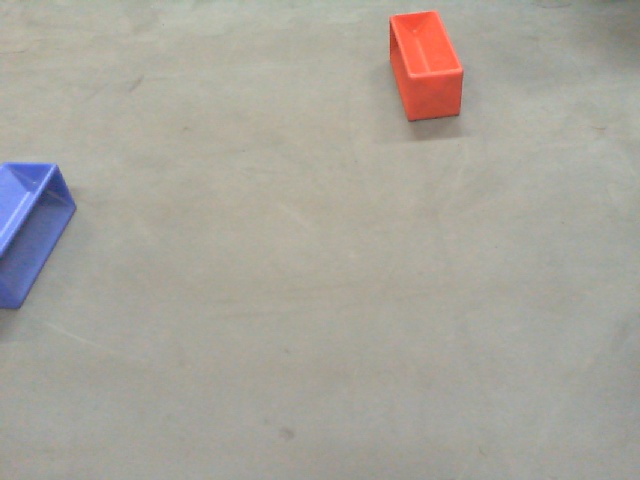BlueSample: (1, 155, 81, 315)
RedSample: (387, 12, 470, 123)
